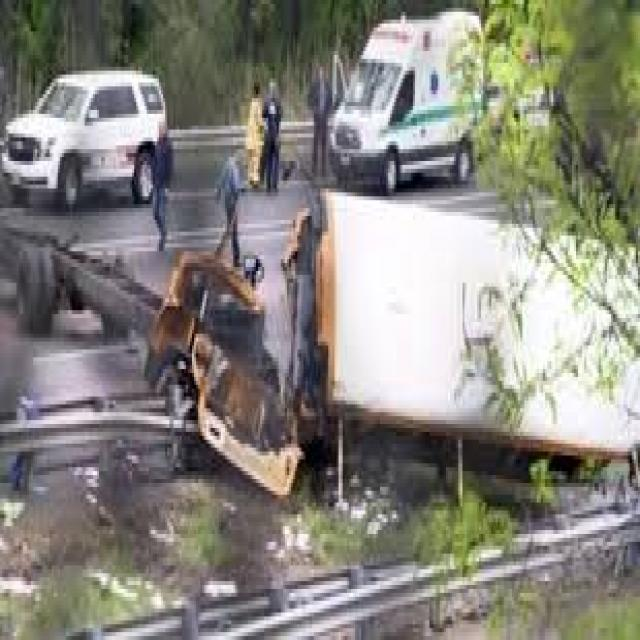accident: (121, 170, 640, 514)
